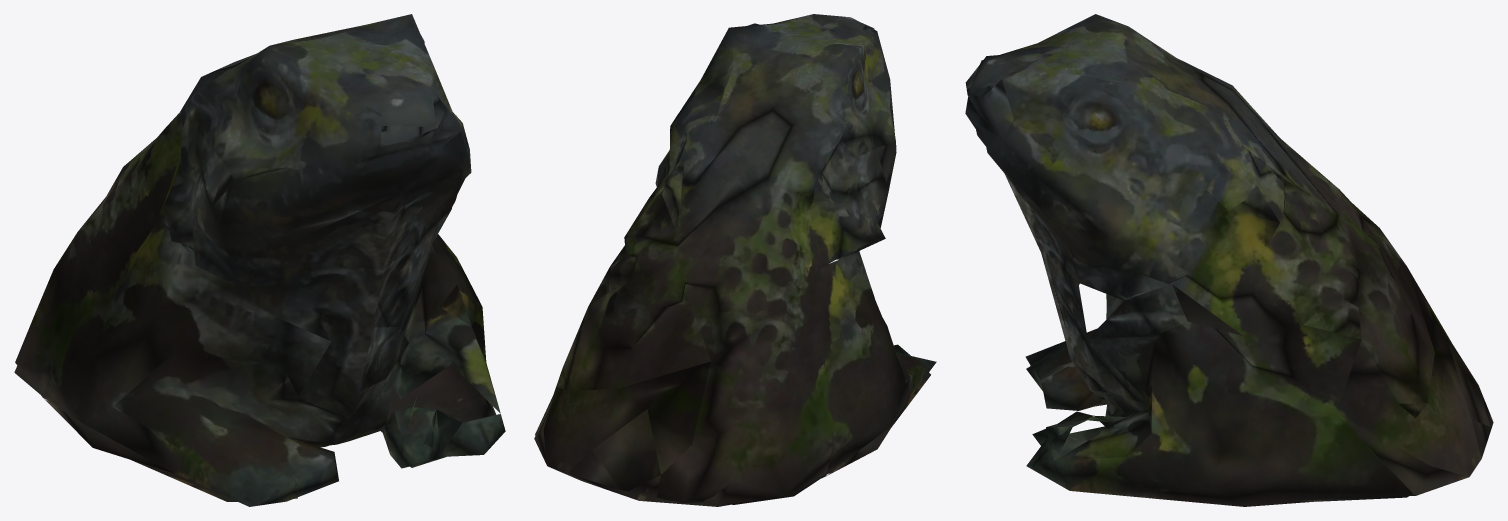
Rendered from swamp-rock-2.glb.
3 renders of one model, left to right at view 1: azimuth 30°, elevation 25°; view 2: azimuth 150°, elevation 25°; view 3: azimuth 270°, elevation 25°, orthographic. The views are drawn at different scales.
Parts seen in each view (by area): view 1: geometry_0; view 2: geometry_0; view 3: geometry_0.
Part boxes in pixels (x1,y1,x2,y2): geometry_0: (14, 14, 505, 506); geometry_0: (534, 14, 936, 506); geometry_0: (965, 14, 1493, 506).
Bounding box in the file's own units: 0.7409 × 0.7883 × 0.9803.
Materials: 1 (1 with a texture image).
